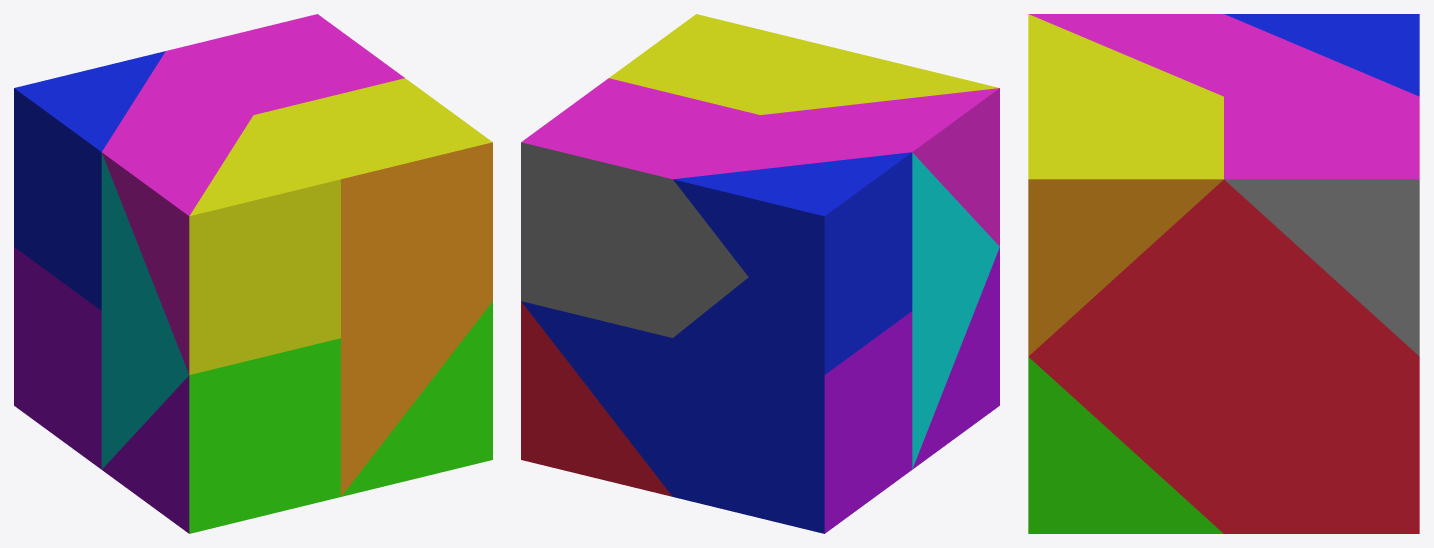
The model's file is TamGram (1).fbx.
3 renders of one model, left to right at view 1: azimuth 30°, elevation 25°; view 2: azimuth 150°, elevation 25°; view 3: azimuth 270°, elevation 25°, orthographic. The views are drawn at different scales.
Parts seen in each view (by area): view 1: Cube.027, Cube.028, Cube.026, Cube.024, Cube.030, Cube.031, Cube.029; view 2: Cube.031, Cube.024, Cube.032, Cube.030, Cube.027, Cube.029, Cube.025; view 3: Cube.025, Cube.024, Cube.027, Cube.026, Cube.032, Cube.028, Cube.031.
Boxes of the visible parts, x1,y1,x2,y2 form: Cube.027: [189, 78, 492, 374]; Cube.028: [189, 301, 492, 533]; Cube.026: [341, 142, 492, 496]; Cube.024: [102, 14, 404, 374]; Cube.030: [14, 247, 189, 533]; Cube.031: [14, 51, 165, 310]; Cube.029: [101, 152, 188, 469]; Cube.031: [521, 152, 912, 533]; Cube.024: [521, 78, 999, 246]; Cube.032: [521, 142, 748, 337]; Cube.030: [824, 247, 999, 533]; Cube.027: [609, 14, 998, 114]; Cube.029: [912, 152, 999, 468]; Cube.025: [521, 301, 672, 496]; Cube.025: [1028, 179, 1419, 533]; Cube.024: [1029, 14, 1419, 179]; Cube.027: [1028, 14, 1223, 179]; Cube.026: [1028, 179, 1223, 356]; Cube.032: [1224, 179, 1419, 356]; Cube.028: [1028, 357, 1223, 533]; Cube.031: [1224, 14, 1419, 96].
Size of the model in its own units: 400 by 400 by 400.
